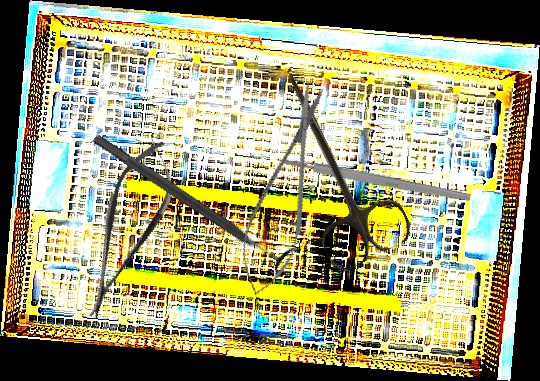Fixation Ring: (84, 122, 302, 281)
Iris Scissors: (246, 56, 417, 276)
Micro Scissor: (228, 78, 343, 303), (64, 131, 190, 328)
Scalpel Handle: (281, 155, 472, 204)
